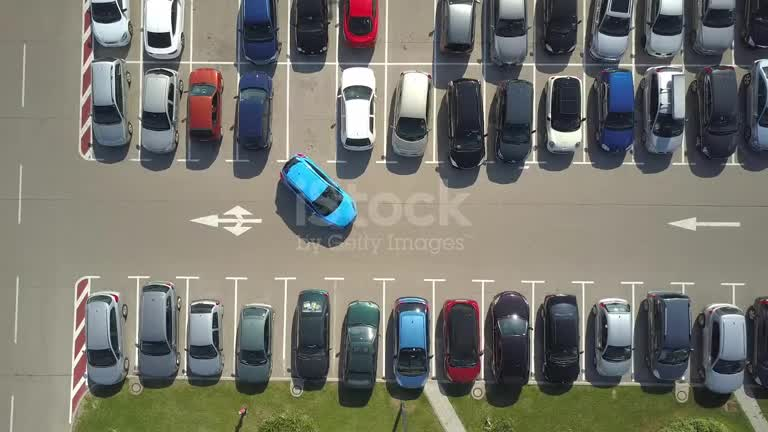car: (280, 154, 356, 228), (692, 66, 740, 158), (697, 303, 746, 393), (643, 291, 691, 380), (138, 282, 180, 378), (640, 66, 686, 153), (85, 292, 128, 385), (490, 291, 530, 384), (91, 58, 132, 145), (141, 68, 182, 152), (341, 301, 380, 389), (292, 290, 330, 380), (446, 78, 484, 168), (391, 71, 431, 156), (393, 297, 430, 388), (442, 299, 482, 383), (541, 294, 579, 382), (594, 68, 634, 151), (494, 79, 533, 162), (592, 298, 632, 376), (235, 303, 273, 384), (339, 67, 375, 150), (545, 76, 583, 152), (186, 299, 223, 376), (236, 72, 272, 148), (589, 0, 633, 61), (489, 0, 529, 64), (239, 0, 279, 63), (188, 68, 222, 140), (143, 0, 184, 59), (692, 0, 735, 55), (644, 0, 683, 57), (743, 59, 767, 150), (291, 0, 328, 54), (543, 0, 580, 53), (90, 0, 132, 46), (746, 296, 767, 386), (440, 0, 475, 53), (343, 0, 378, 47), (741, 0, 767, 47)
